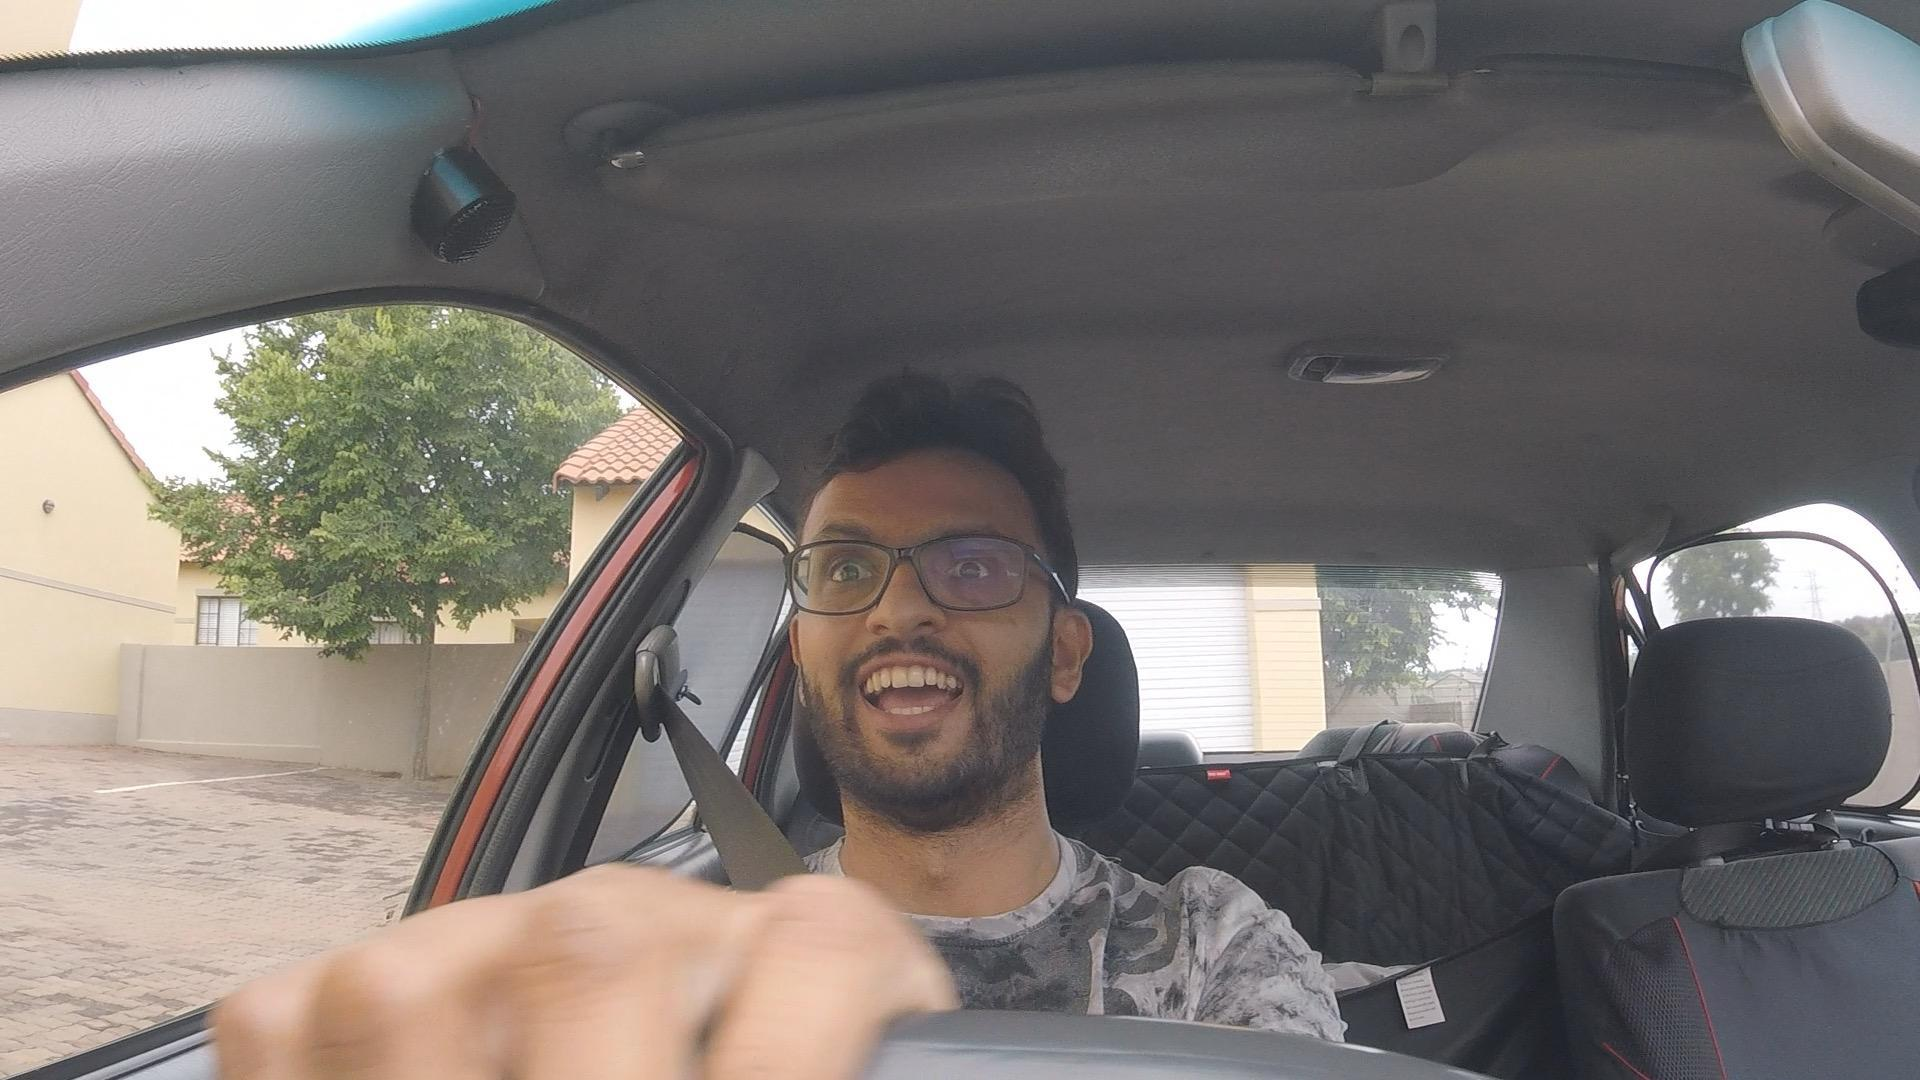SafeDriving: (786, 373, 1093, 832)
